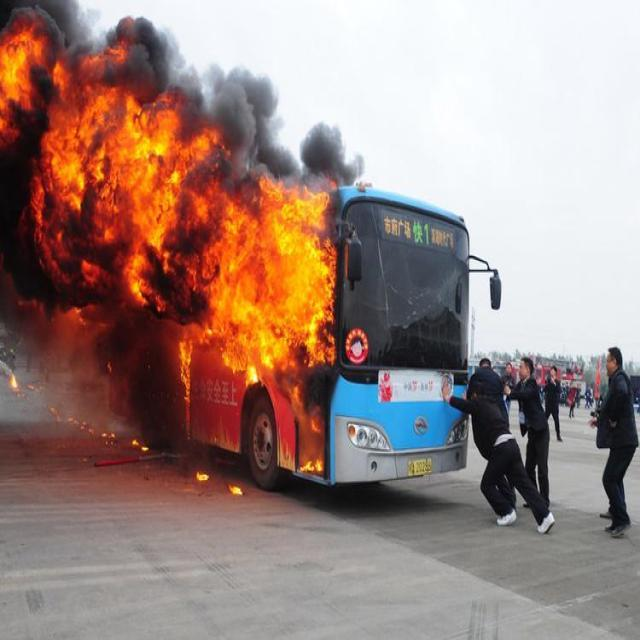Fire: (0, 0, 336, 368), (296, 454, 324, 476), (226, 478, 244, 498), (194, 466, 210, 484)
